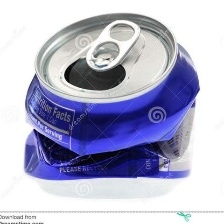can: (20, 8, 204, 199)
